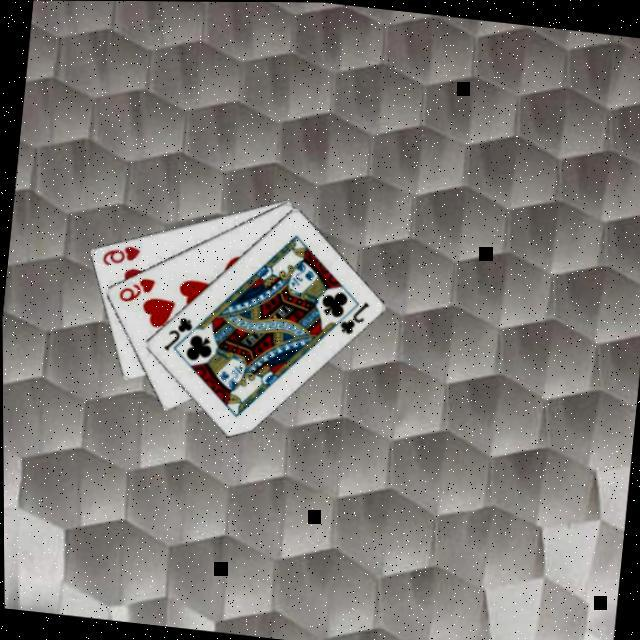6H: (98, 237, 143, 269)
9H: (115, 270, 158, 305)
JC: (159, 310, 196, 353), (335, 293, 372, 336)
